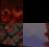altar: (0, 0, 23, 23)
crimera: (37, 23, 49, 47)
